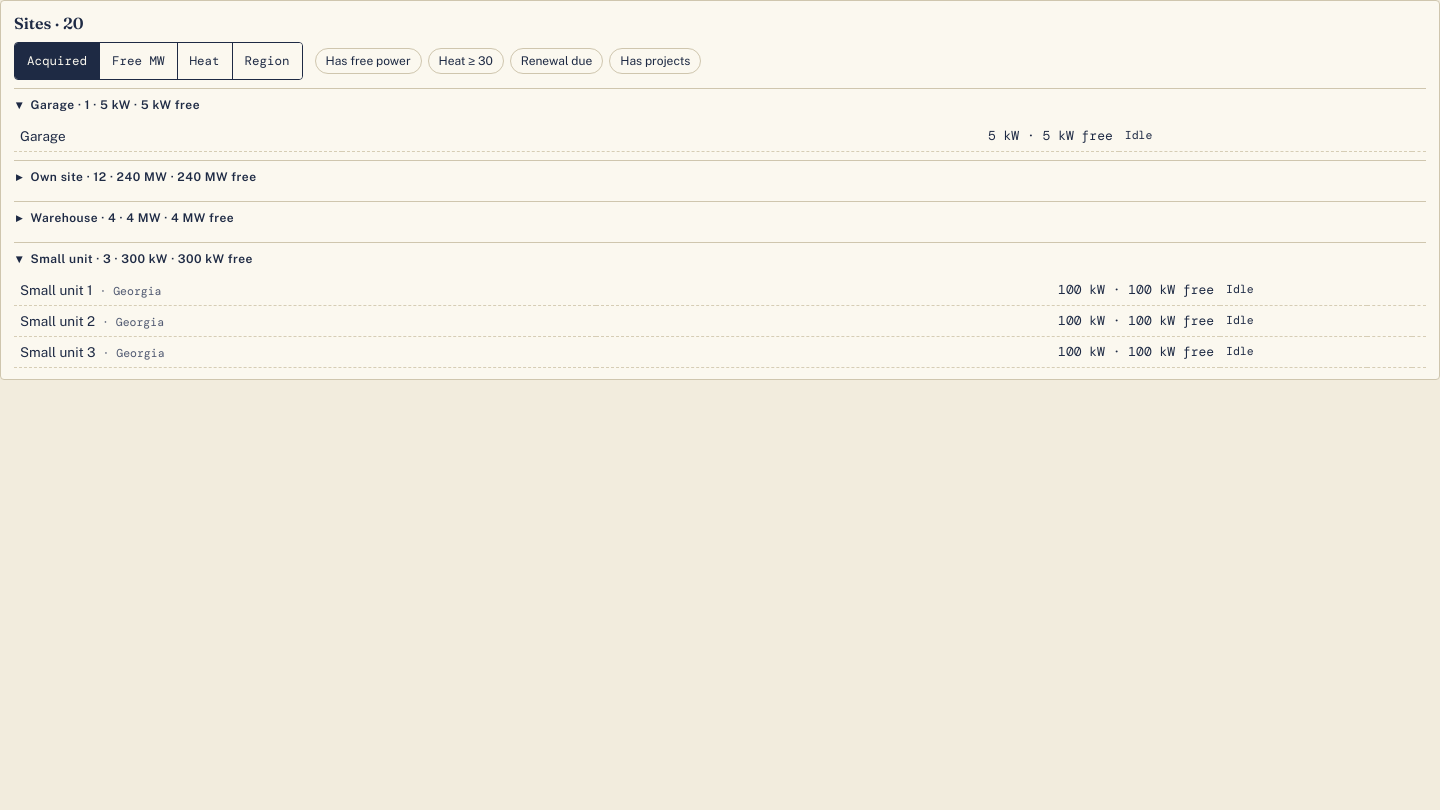
Scenario: Fleet & Sites: grouped sites › groups by type; groups of 3 or fewer open, larger ones folded until clicked
Click the button with class "site-group-head" that starts with "Own site · 12 · 240 MW · 240 MW free" at coordinates (144, 177), box 14,161 -> 1426,193
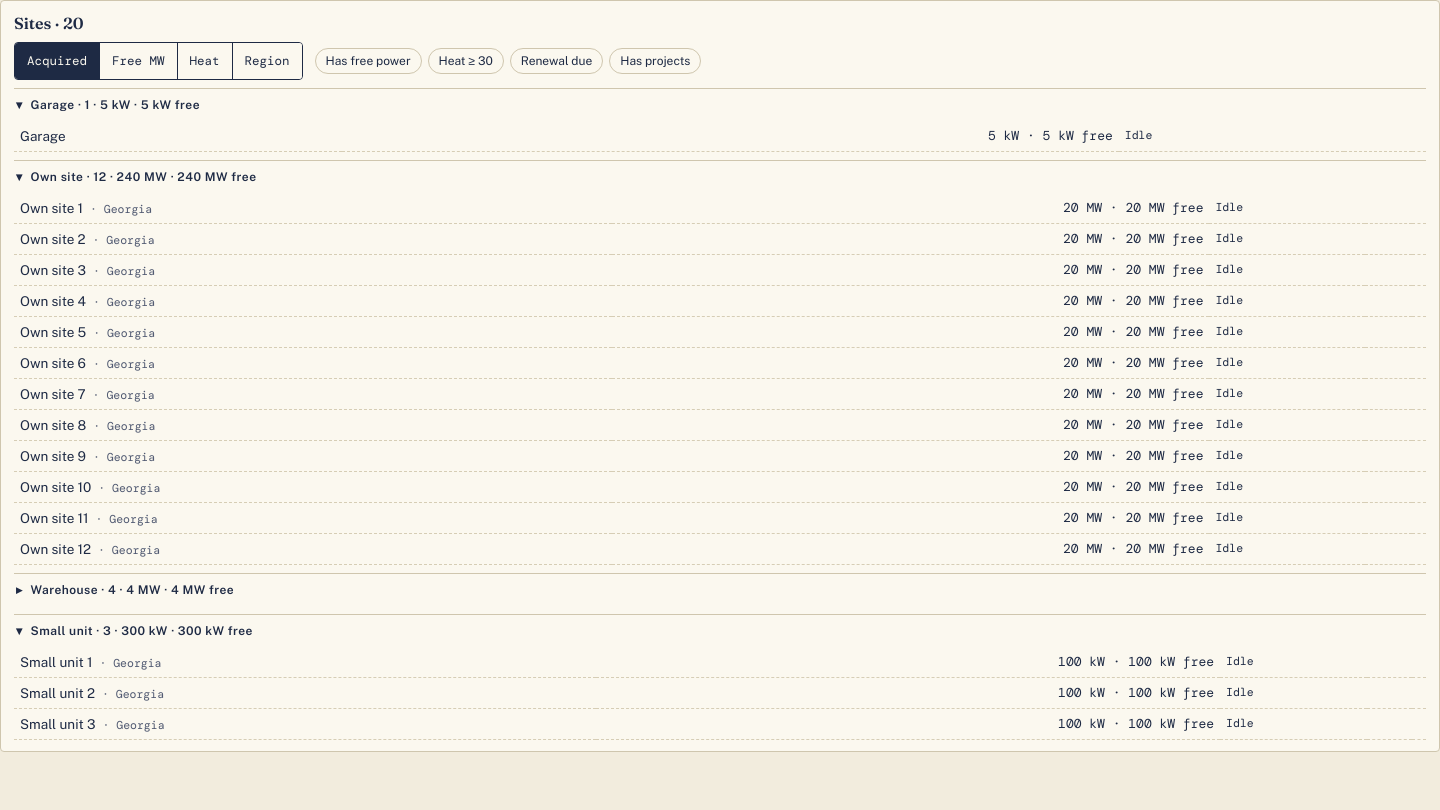
Check: the text "Own site 12" is shown, box 20,541 -> 91,557
